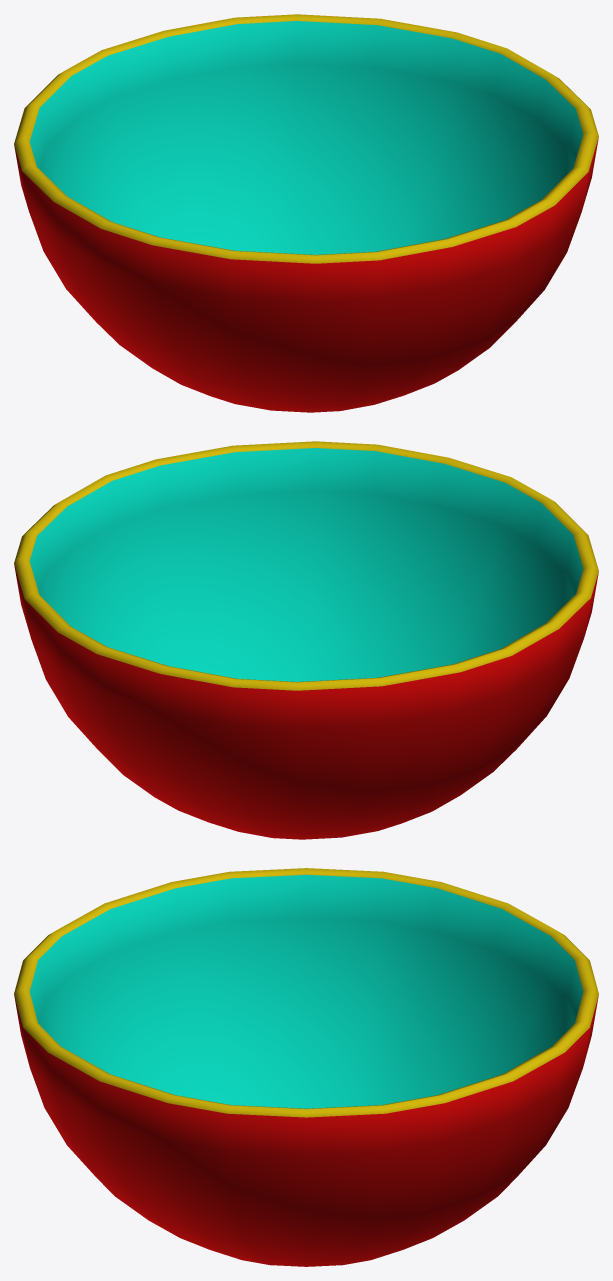
Rendered from bowl_c001.fbx.
3 renders of one model, top to bottom at view 1: azimuth 30°, elevation 25°; view 2: azimuth 150°, elevation 25°; view 3: azimuth 270°, elevation 25°, orthographic.
Parts seen in each view (by area): view 1: bowl_c; view 2: bowl_c; view 3: bowl_c.
Boxes of the visible parts, x1,y1,x2,y2 form: bowl_c: (14, 14, 598, 412); bowl_c: (14, 441, 598, 839); bowl_c: (14, 868, 598, 1266).
Size of the model in its own units: 17.13 by 7.69 by 17.13.
